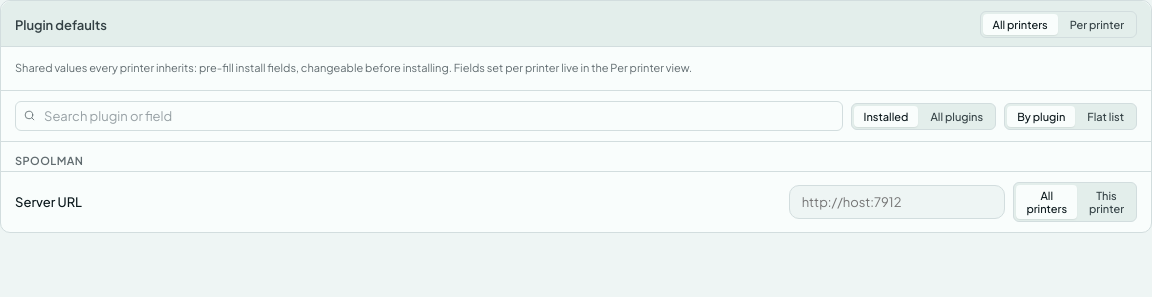
Test: ScopedPluginDefaultsPane value editing › switches views from the segmented control in the group head
Click the button "Per printer" at (1097, 24), box [1060, 14, 1134, 35]
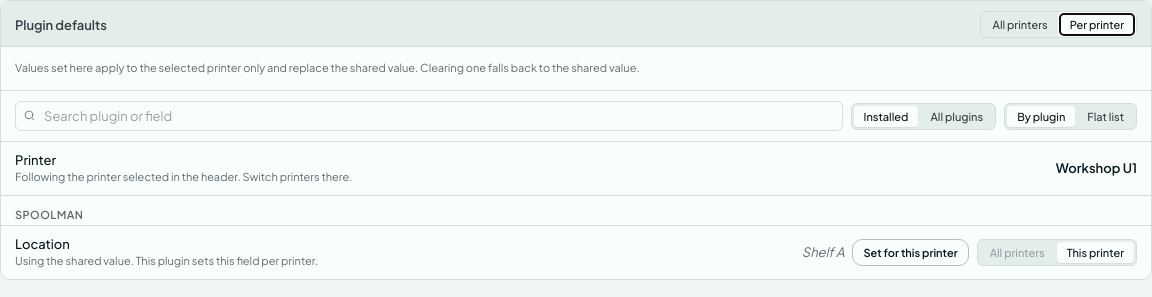
Expected: the button "Set for this printer" is shown, [852, 239, 969, 266]
